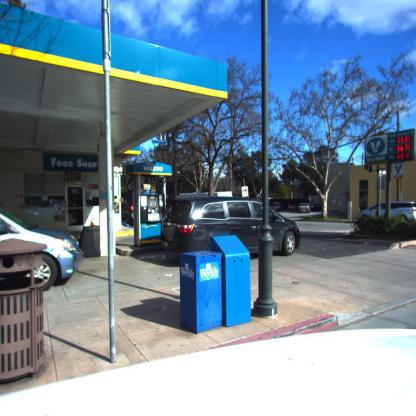car: (162, 197, 301, 256), (1, 202, 84, 290), (357, 200, 415, 223), (298, 202, 310, 212)
